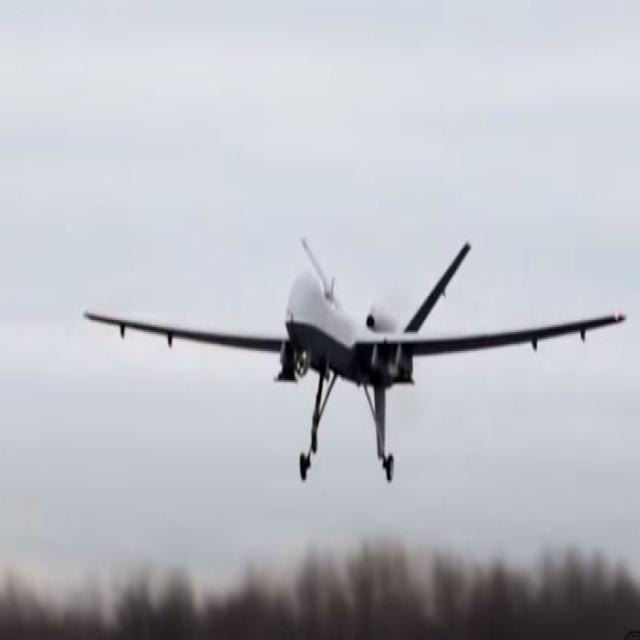iha: (80, 230, 629, 487)
